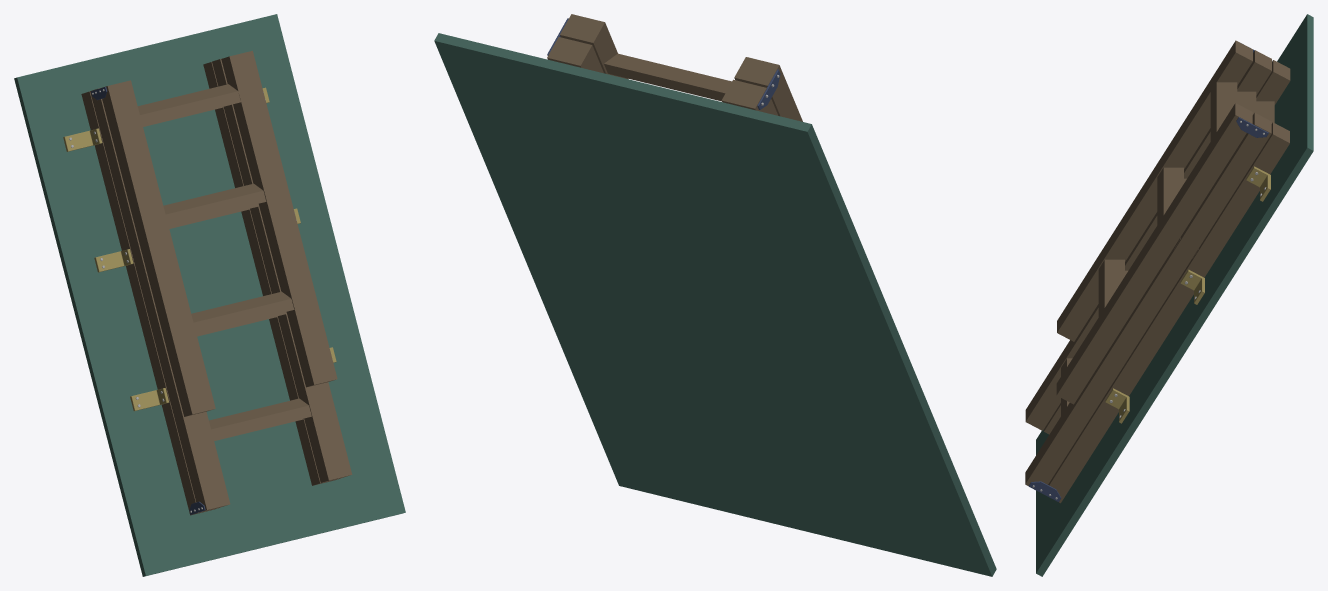
Rendered from folded_ladder.fbx.
The picture shows the model from 3 angles, left to right: view 1: azimuth 30°, elevation 25°; view 2: azimuth 150°, elevation 25°; view 3: azimuth 270°, elevation 25°; orthographic projection. The views are drawn at different scales.
Visible parts, largest first — view 1: closed_ladder; view 2: closed_ladder; view 3: closed_ladder.
Boxes of the visible parts, <box> form: closed_ladder: <box>14,14,405,576</box>; closed_ladder: <box>434,14,996,576</box>; closed_ladder: <box>1025,14,1313,576</box>.
Size of the model in its own units: 15.92 by 23.99 by 14.52.
